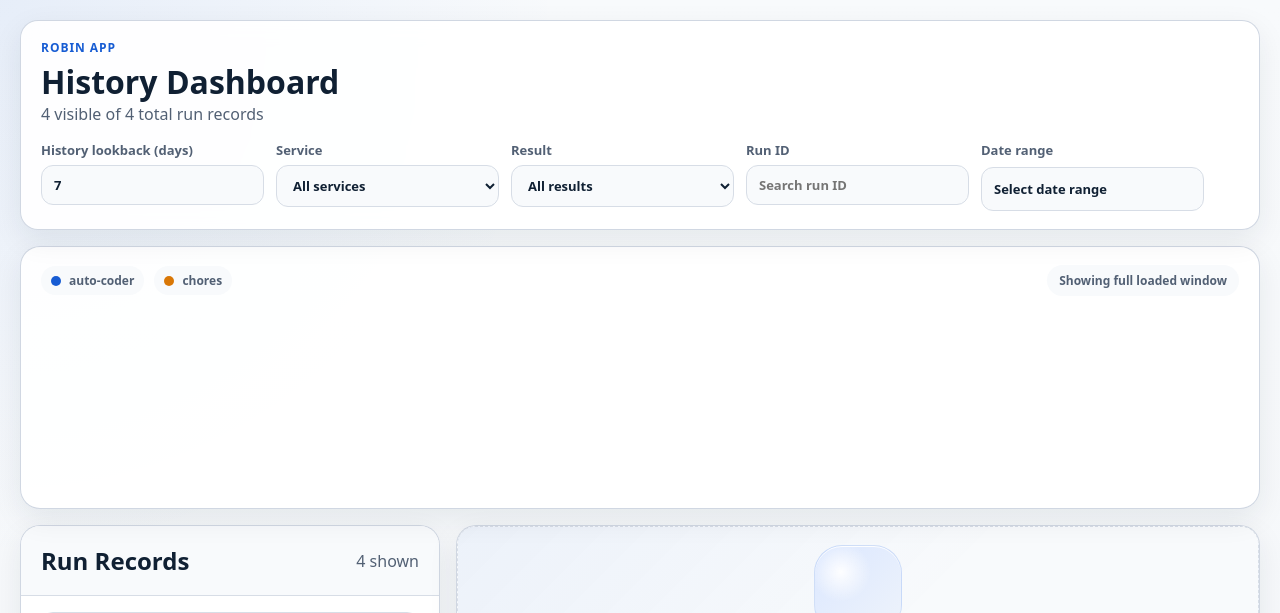
Test: history dashboard timeline interactions › keeps the full dataset visible until the end date is selected
The image size is (1280, 613).
Expected: the text "4 visible of 4 total run records" is shown, [41,103,264,125]
Click the button "Select date range". click: click(1092, 189)
box: [981,167,1204,211]
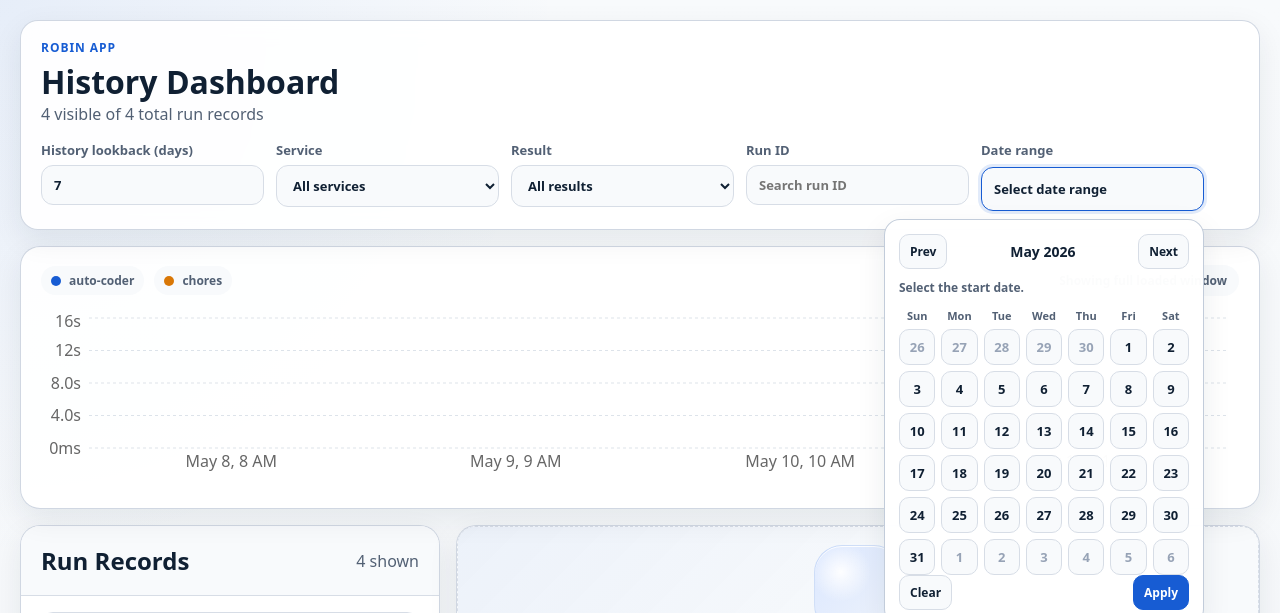
Click the button "10". click: click(917, 431)
box: [899,413,935,449]
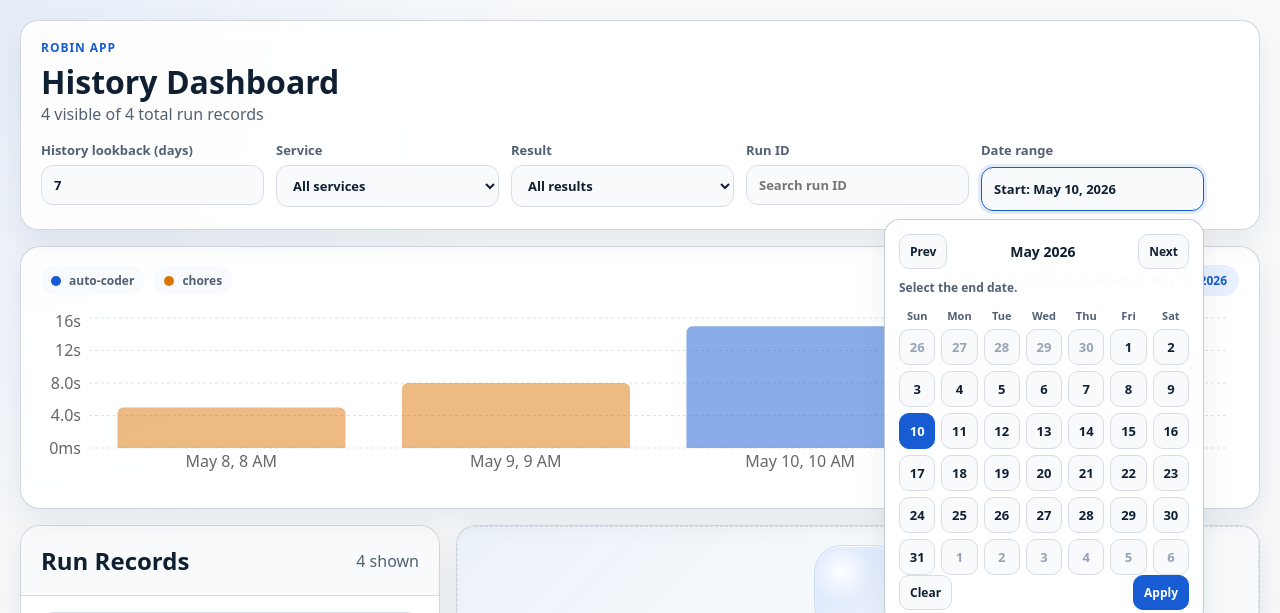
Expected: the text "4 shown" is shown, [356,550,419,572]
Expected: the text "Date range start selected: May 10, 2026" is shown, [980,265,1239,296]
Expected: the text "Select the end date." is shown, [899,279,1018,296]
